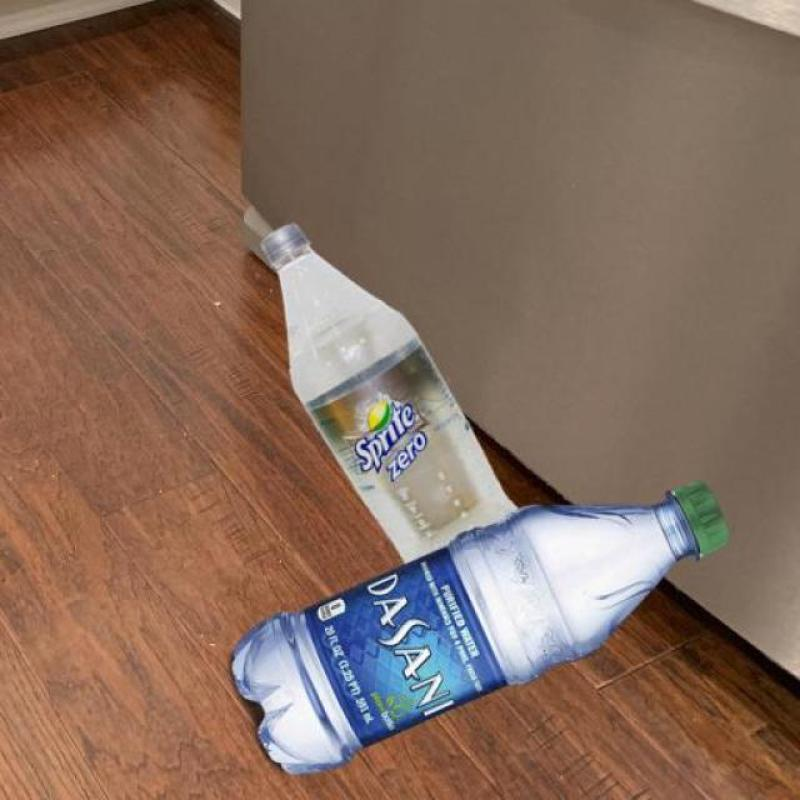botella: (233, 481, 732, 776), (256, 222, 520, 566)
